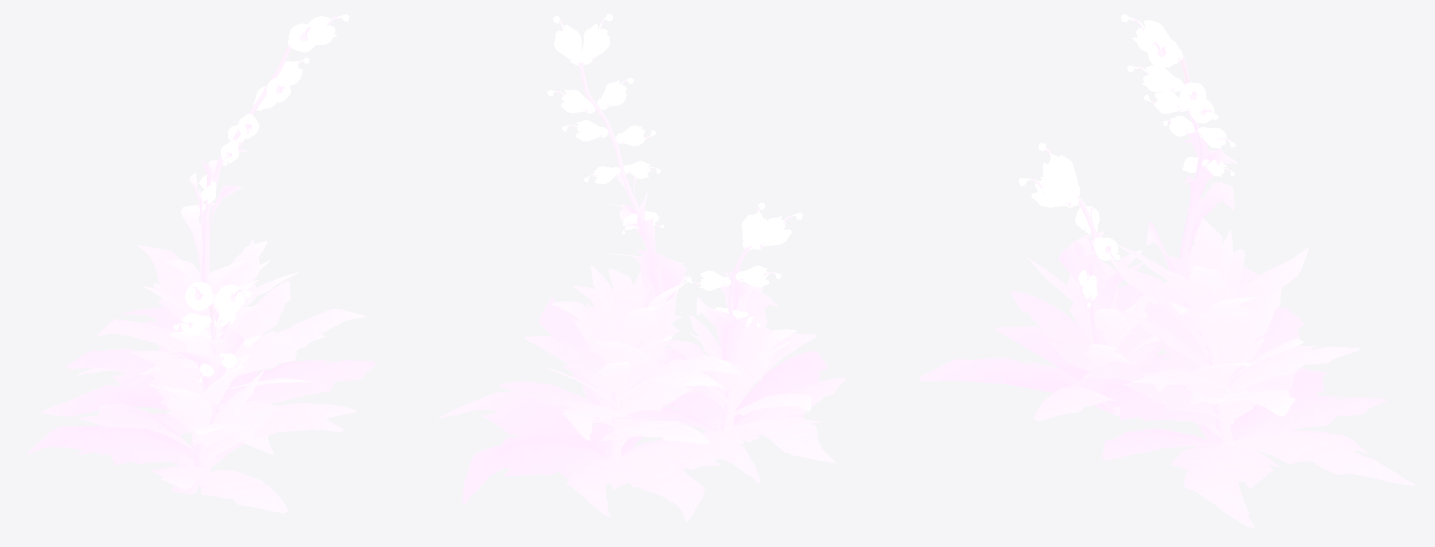
3 renders of one model, left to right at view 1: azimuth 30°, elevation 25°; view 2: azimuth 150°, elevation 25°; view 3: azimuth 270°, elevation 25°, orthographic. The views are drawn at different scales.
Visible parts, largest first — view 1: SM_GF_Fox_Glove_02_LOD0; view 2: SM_GF_Fox_Glove_02_LOD0; view 3: SM_GF_Fox_Glove_02_LOD0.
Part boxes in pixels (left/top/right/bottom): SM_GF_Fox_Glove_02_LOD0: left=27, top=14, right=375, bottom=513; SM_GF_Fox_Glove_02_LOD0: left=437, top=14, right=845, bottom=521; SM_GF_Fox_Glove_02_LOD0: left=918, top=14, right=1415, bottom=527.
Bounding box in the file's own units: 0.6916 × 0.7031 × 0.7119.
Materials: 1 (1 with a texture image).
